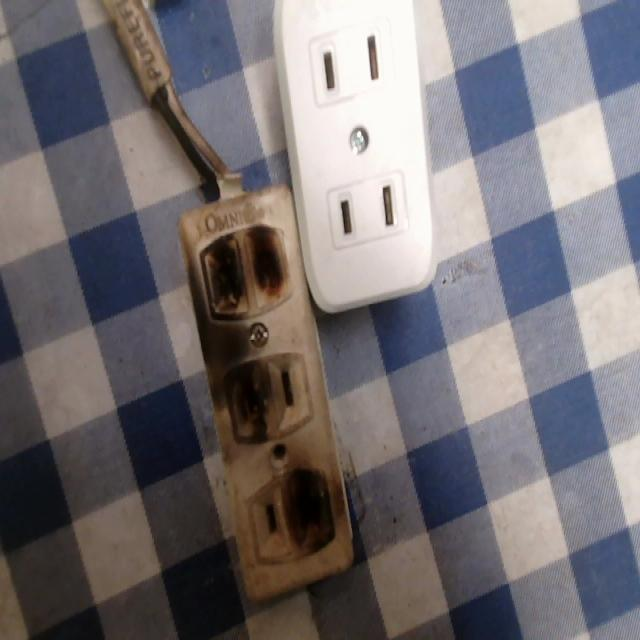-: (195, 221, 293, 323), (283, 460, 342, 564), (219, 356, 281, 436)
